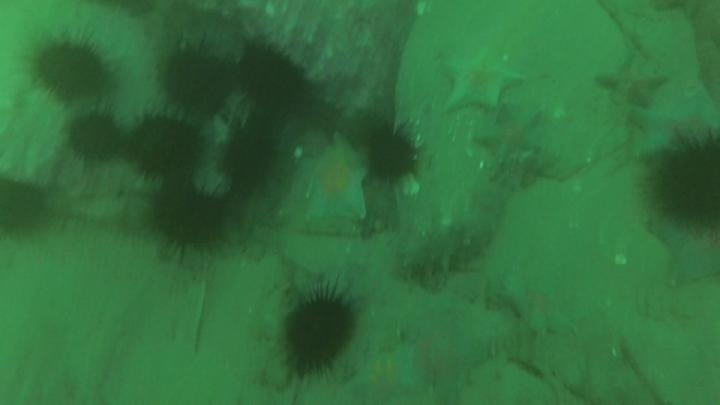echinus: (649, 129, 720, 230), (280, 287, 360, 376), (149, 184, 230, 254), (31, 38, 112, 103), (236, 43, 310, 113), (159, 46, 234, 115), (128, 114, 204, 179), (362, 121, 422, 185), (220, 126, 279, 190), (0, 175, 51, 239), (66, 109, 124, 163), (341, 107, 391, 153)
holothurian: (397, 184, 507, 283)
starfish: (393, 309, 492, 403), (296, 134, 371, 226), (628, 90, 717, 162), (340, 339, 429, 405), (440, 47, 525, 115), (497, 272, 578, 337), (649, 214, 719, 288), (474, 105, 546, 166), (594, 54, 669, 111)
